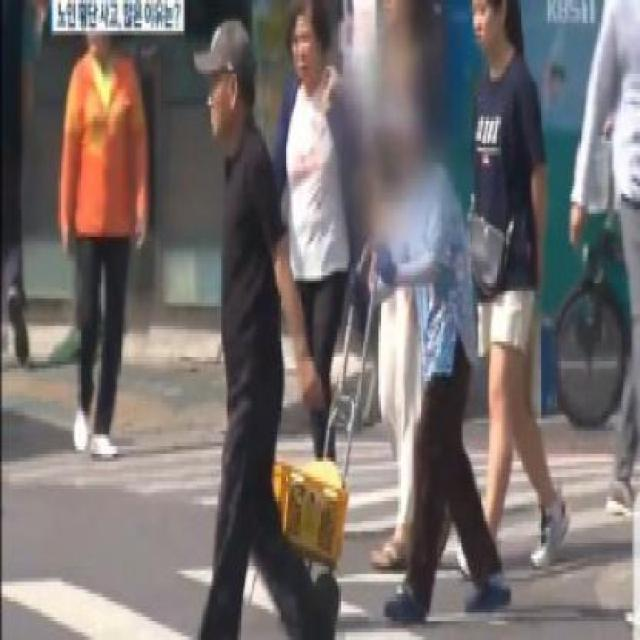Person: (193, 19, 324, 636), (378, 82, 507, 620), (471, 5, 563, 582), (59, 24, 148, 458), (280, 3, 358, 474)
